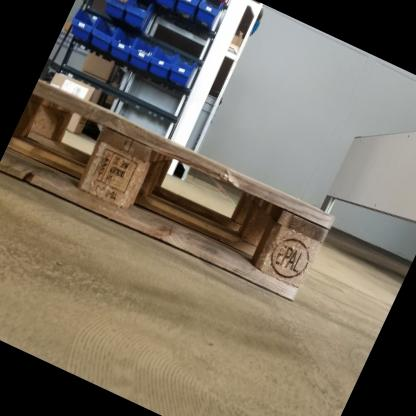BoxFace: (0, 76, 340, 307)
